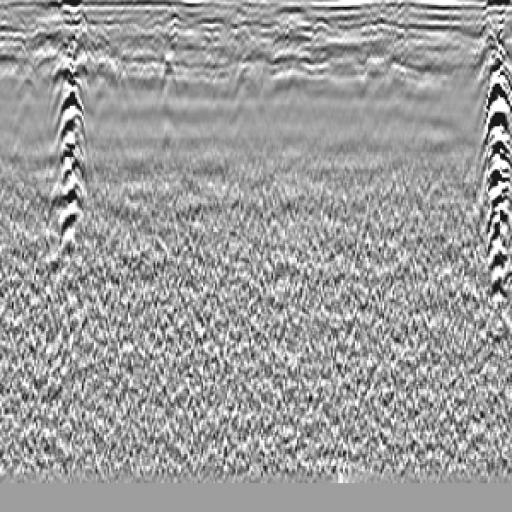metalic: (36, 34, 113, 302), (468, 19, 512, 323)
